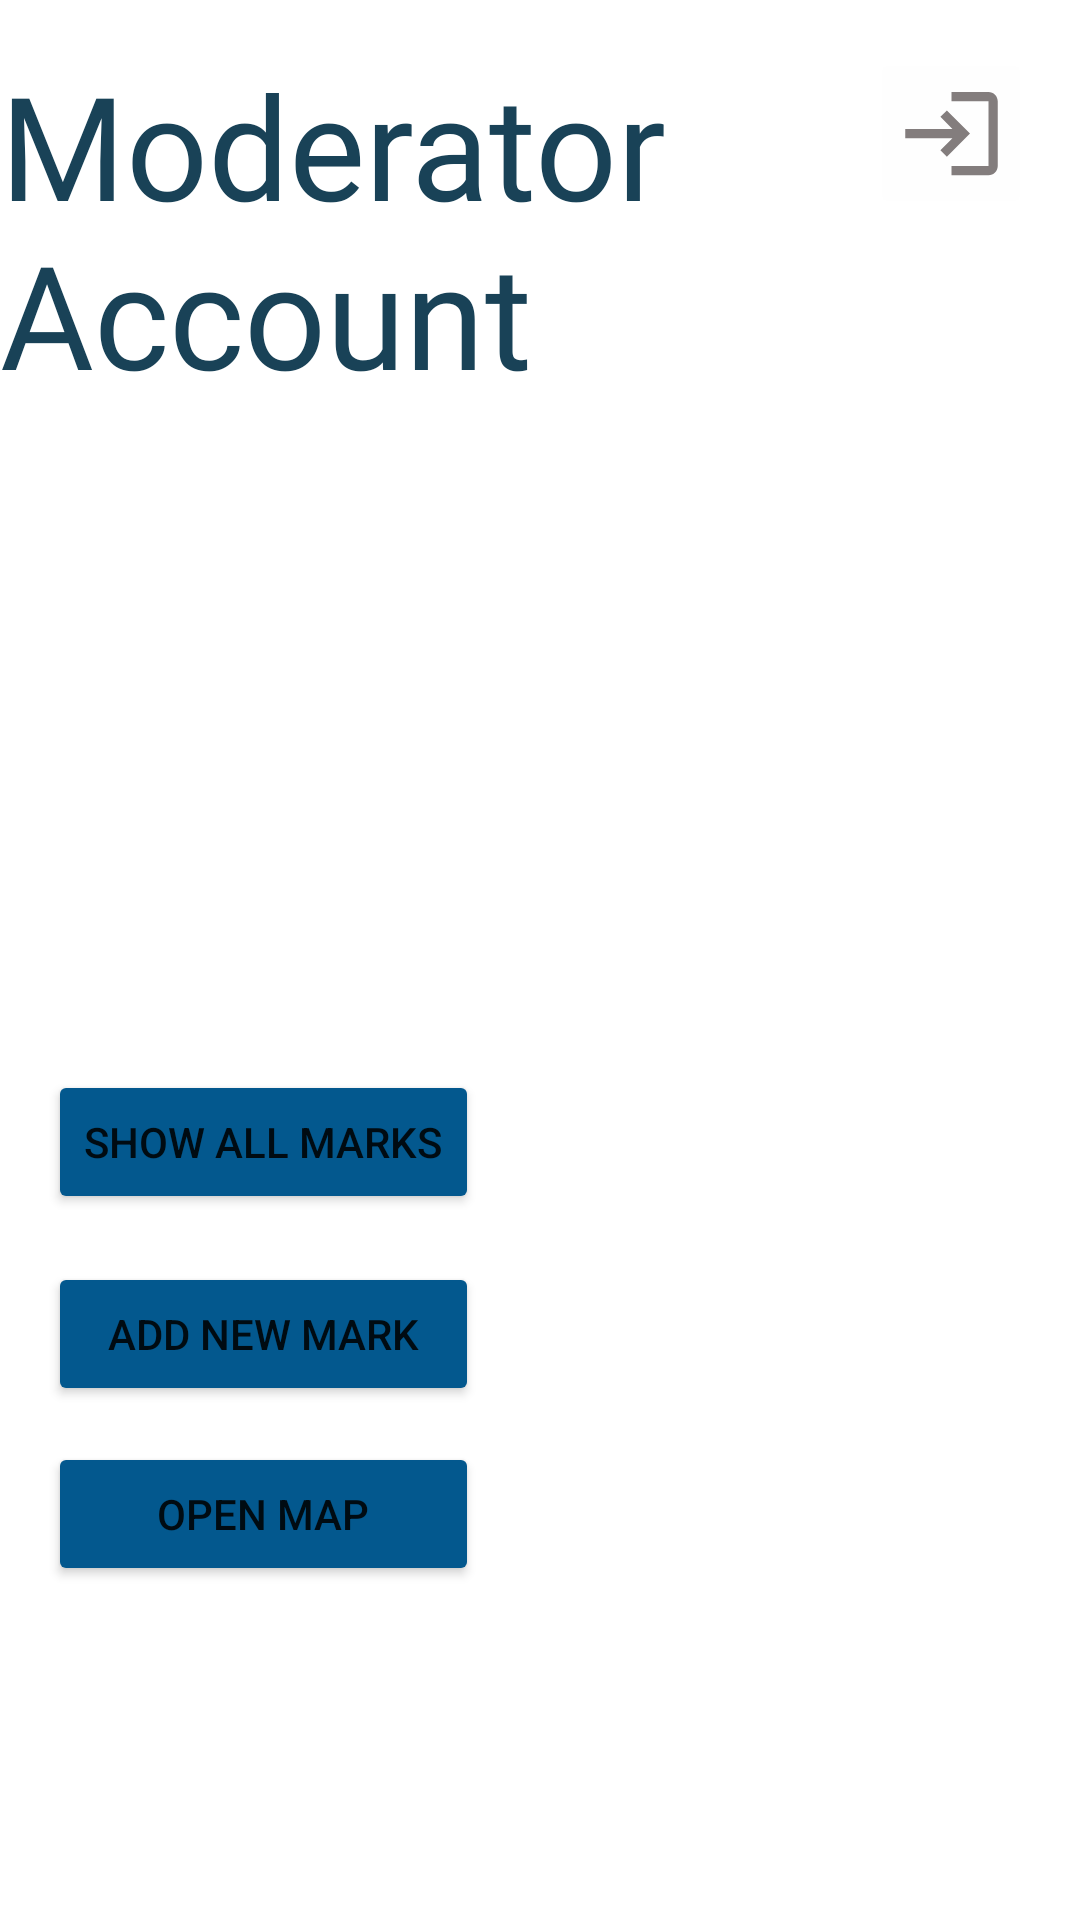

Named icons in this screenshot (1080px x 1920px) and their bounding boxes, (x1, y1, x2, y2):
login: (905, 92, 998, 176)
